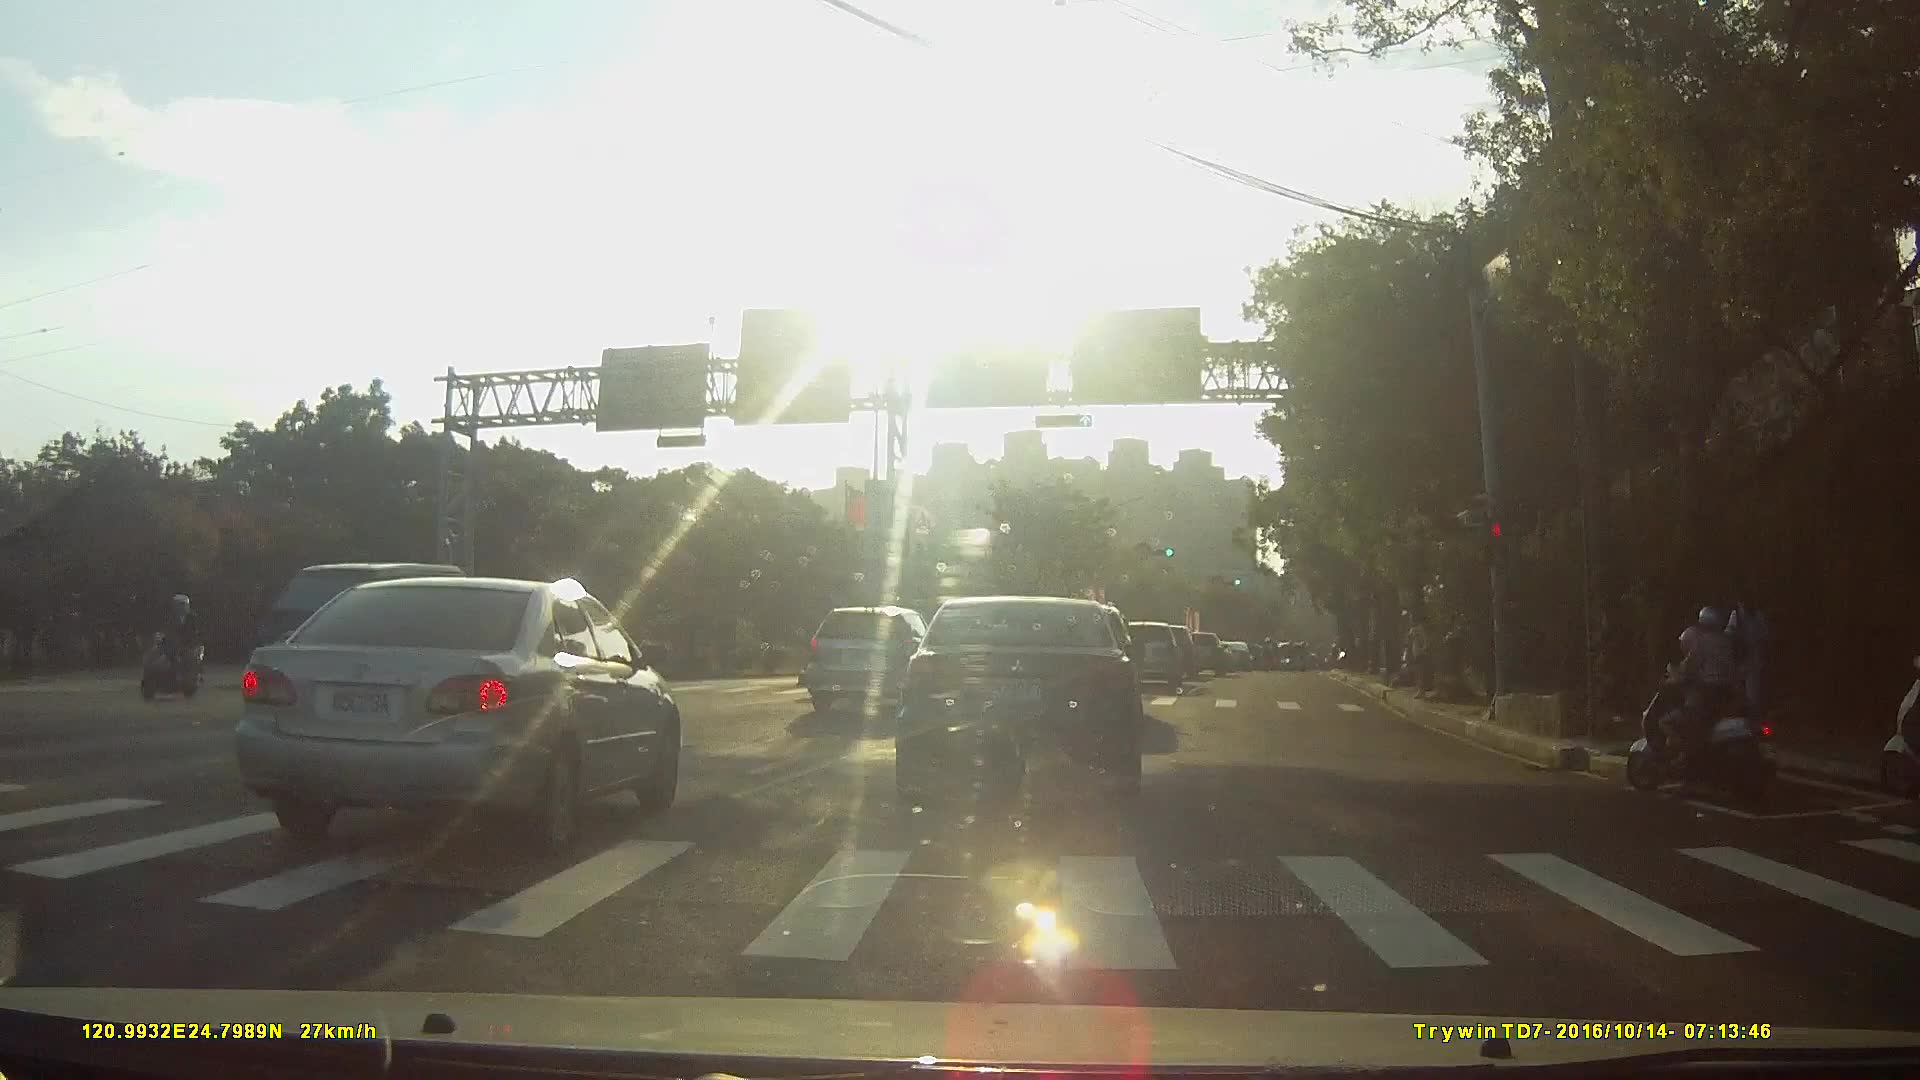pedestrian: (1720, 586, 1780, 746)
rider: (1624, 607, 1785, 809), (139, 592, 205, 699)
vehicle: (220, 576, 682, 856), (892, 597, 1145, 805), (802, 608, 946, 718), (1108, 622, 1182, 690), (1174, 631, 1224, 674), (1215, 643, 1252, 671)
